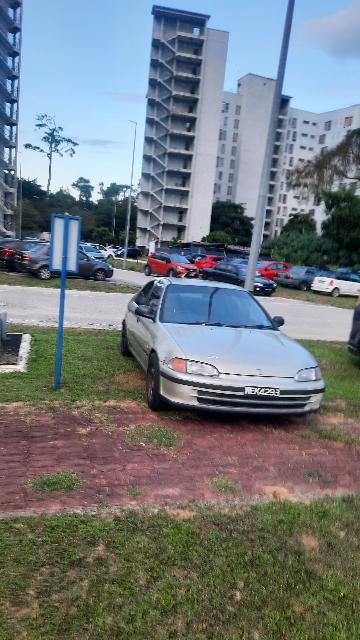License_Plate: (241, 383, 283, 401)
car: (118, 275, 328, 422)
